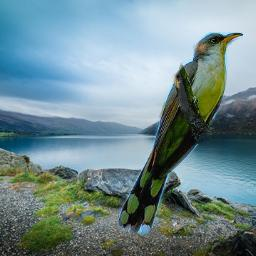Cuckoo: (119, 32, 243, 235)
